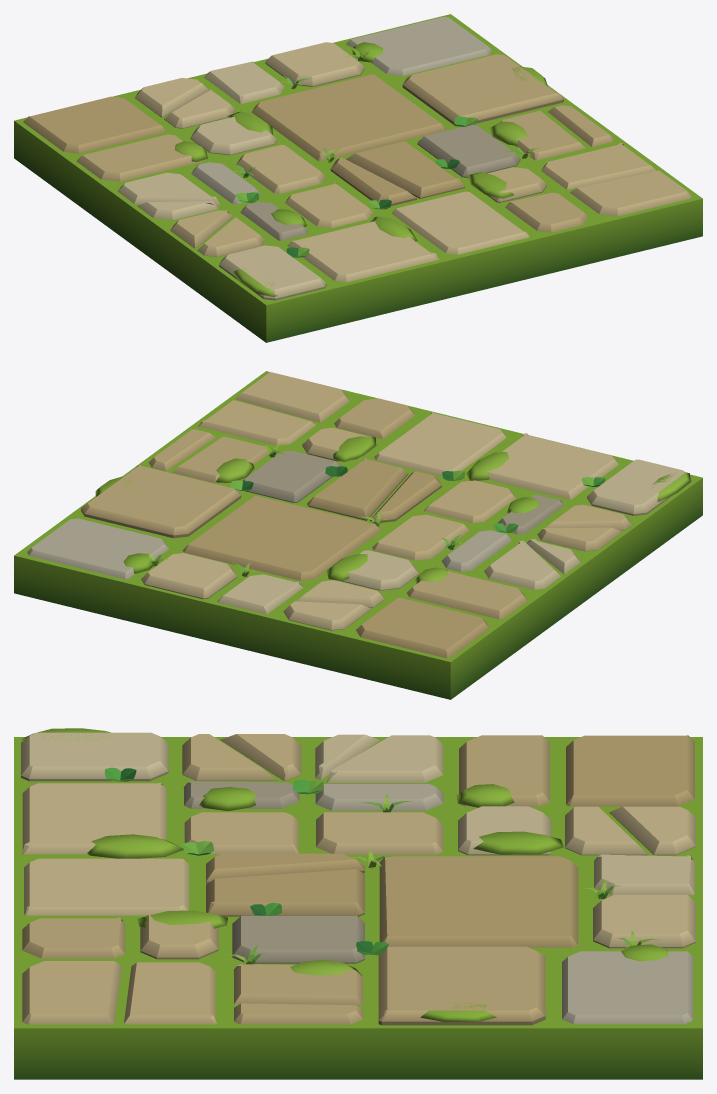
Rendered from floor_a.fbx.
3 renders of one model, top to bottom at view 1: azimuth 30°, elevation 25°; view 2: azimuth 150°, elevation 25°; view 3: azimuth 270°, elevation 25°, orthographic. The views are drawn at different scales.
Visible parts, largest first — view 1: floor_a; view 2: floor_a; view 3: floor_a.
Part boxes in pixels (x1=…): floor_a: x1=14, y1=14, x2=702, y2=342; floor_a: x1=14, y1=371, x2=702, y2=699; floor_a: x1=14, y1=728, x2=702, y2=1079.
Size of the model in its own units: 4 by 0.4 by 4.
